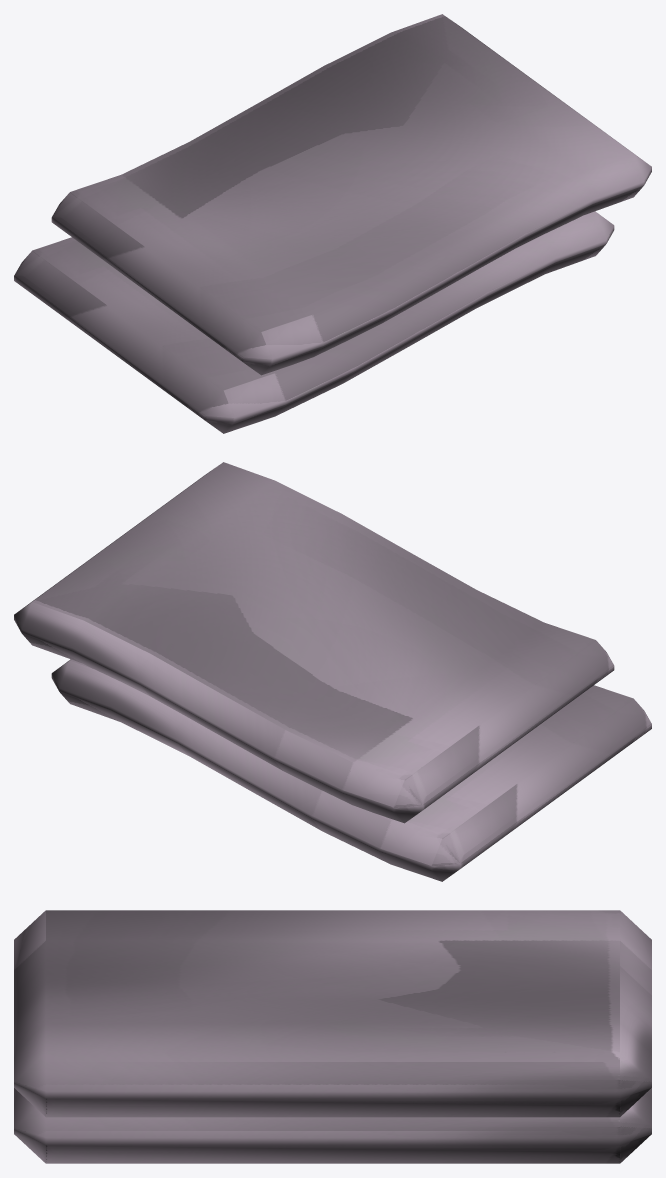
The model's file is qocho.glb.
3 renders of one model, top to bottom at view 1: azimuth 30°, elevation 25°; view 2: azimuth 150°, elevation 25°; view 3: azimuth 270°, elevation 25°, orthographic. The views are drawn at different scales.
Parts seen in each view (by area): view 1: Qocho; view 2: Qocho; view 3: Qocho.
Boxes of the visible parts, x1=… form: Qocho: x1=14, y1=14, x2=651, y2=433; Qocho: x1=14, y1=462, x2=651, y2=881; Qocho: x1=14, y1=910, x2=651, y2=1163.
Bounding box in the file's own units: 2.43 × 0.9334 × 2.
Materials: 1 (1 with a texture image).
